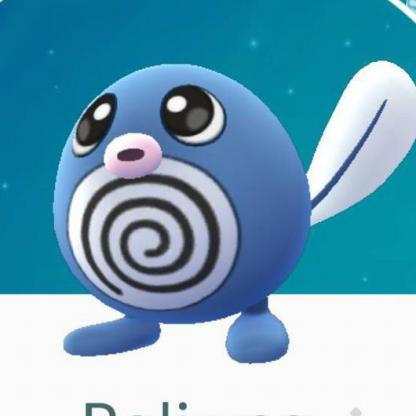Poliwag: (41, 43, 416, 377)
